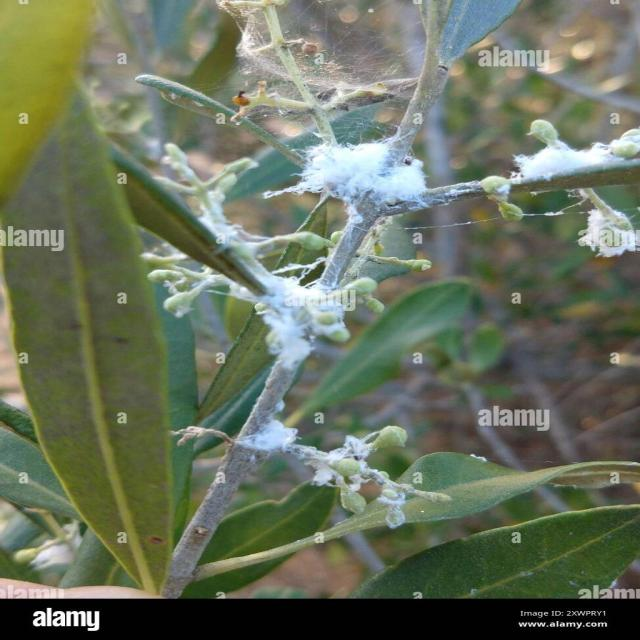Psyllid: (238, 420, 449, 528), (162, 143, 275, 258), (286, 137, 446, 218), (255, 277, 383, 370), (510, 120, 639, 191)
